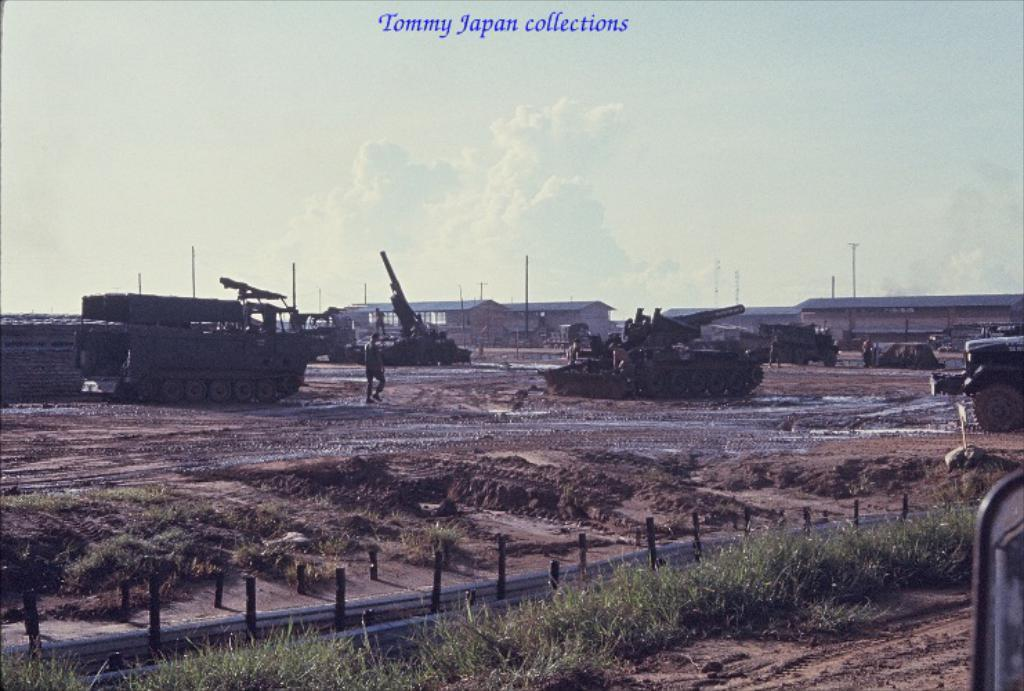Tank: (535, 303, 774, 398), (366, 250, 471, 368)
